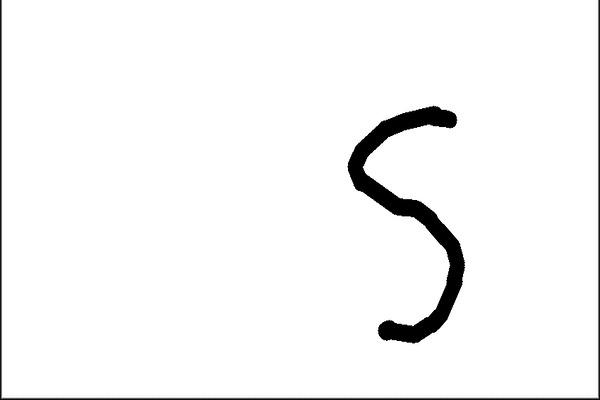S: (344, 102, 469, 347)
